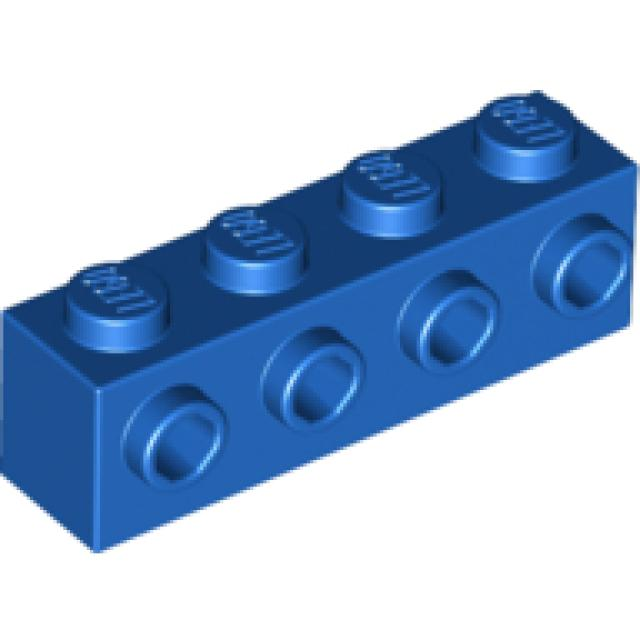Blue_Medium: (0, 90, 640, 557)
